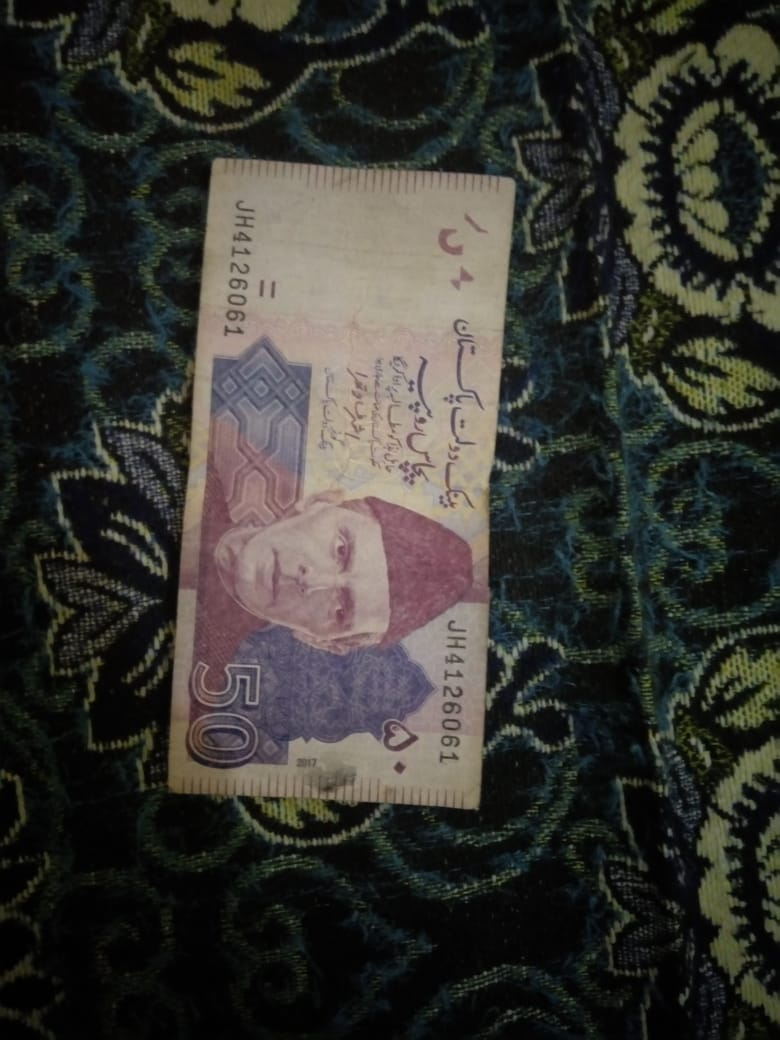50 rupee: (171, 139, 521, 832)
